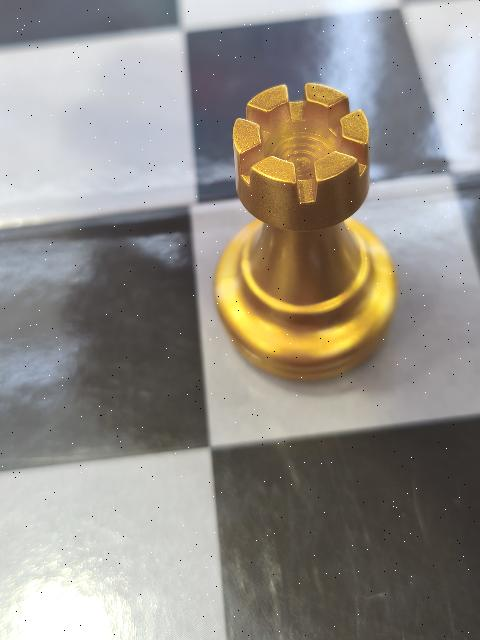black_rook: (212, 78, 400, 382)
